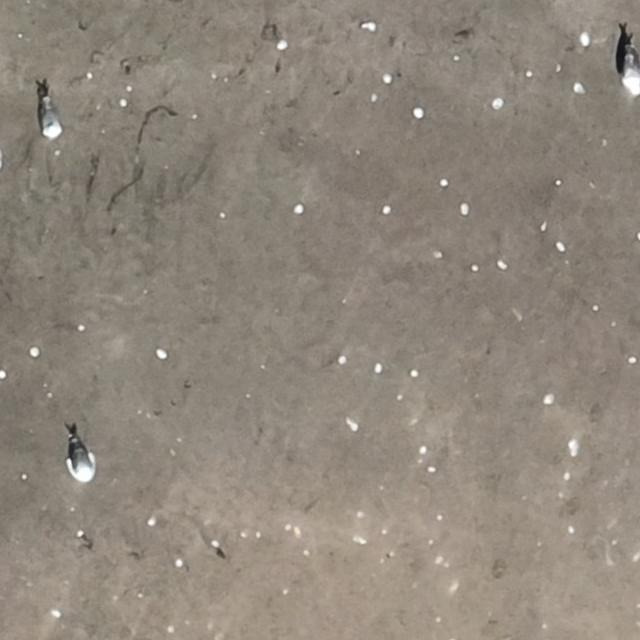umineko: (64, 427, 98, 485), (617, 46, 640, 96), (42, 102, 63, 138)
